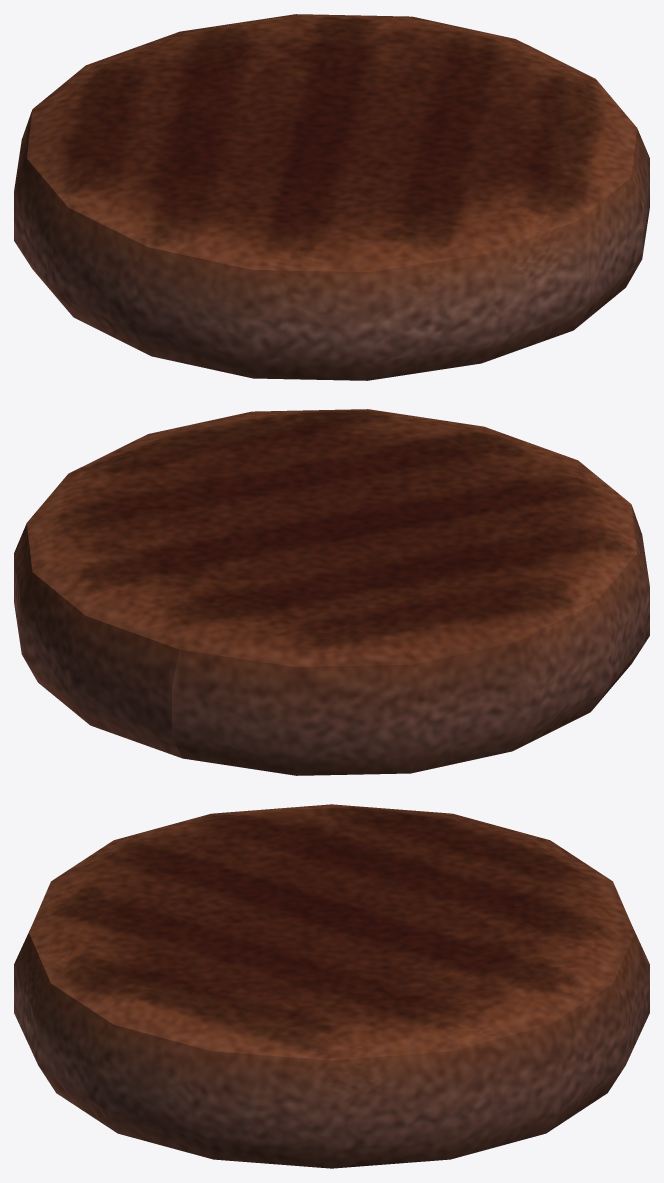
File: HamburgSteak_1.fbx
3 renders of one model, top to bottom at view 1: azimuth 30°, elevation 25°; view 2: azimuth 150°, elevation 25°; view 3: azimuth 270°, elevation 25°, orthographic.
Parts seen in each view (by area): view 1: HamburgSteak_1; view 2: HamburgSteak_1; view 3: HamburgSteak_1.
Part boxes in pixels (x1,y1,x2,y2): HamburgSteak_1: (14,14,649,380); HamburgSteak_1: (14,409,649,775); HamburgSteak_1: (14,804,649,1168).
Size of the model in its own units: 45.96 by 9.88 by 45.96.
1 material, 1 textured.
